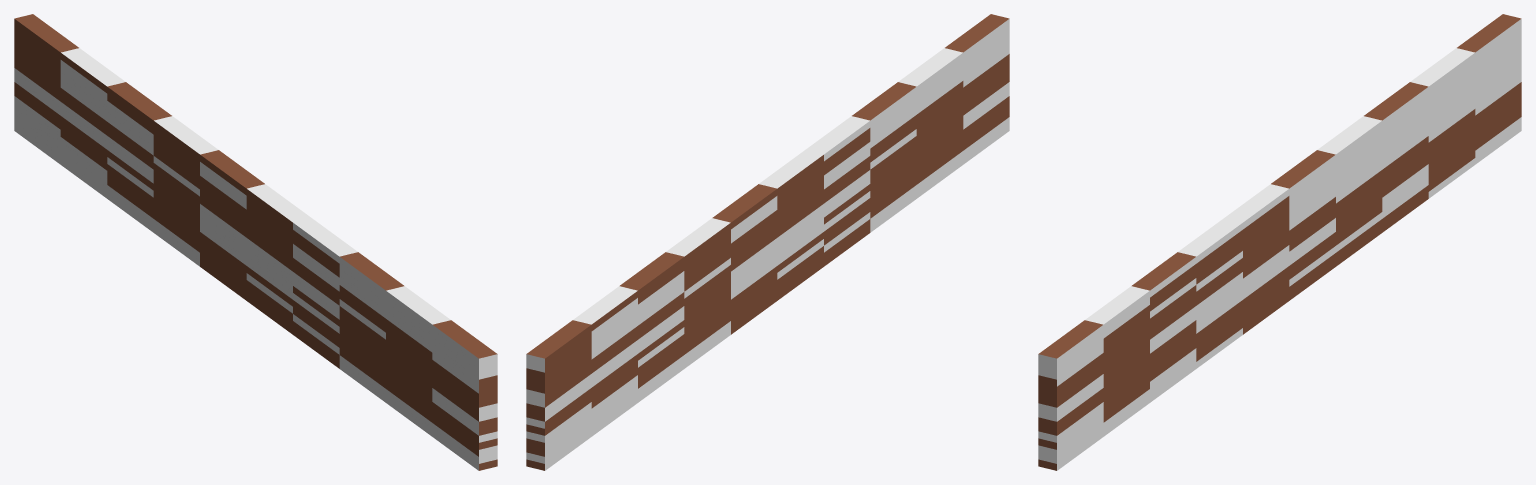
Rendered from Pared.fbx.
The picture shows the model from 3 angles, left to right: view 1: azimuth 30°, elevation 25°; view 2: azimuth 150°, elevation 25°; view 3: azimuth 330°, elevation 25°; orthographic projection.
Parts seen in each view (by area): view 1: Cube; view 2: Cube; view 3: Cube.
Part boxes in pixels (x1,y1,x2,y2): Cube: (14, 14, 497, 470); Cube: (526, 14, 1009, 470); Cube: (1038, 14, 1521, 470).
Size of the model in its own units: 140 by 800 by 6000.
1 material, 1 textured.
